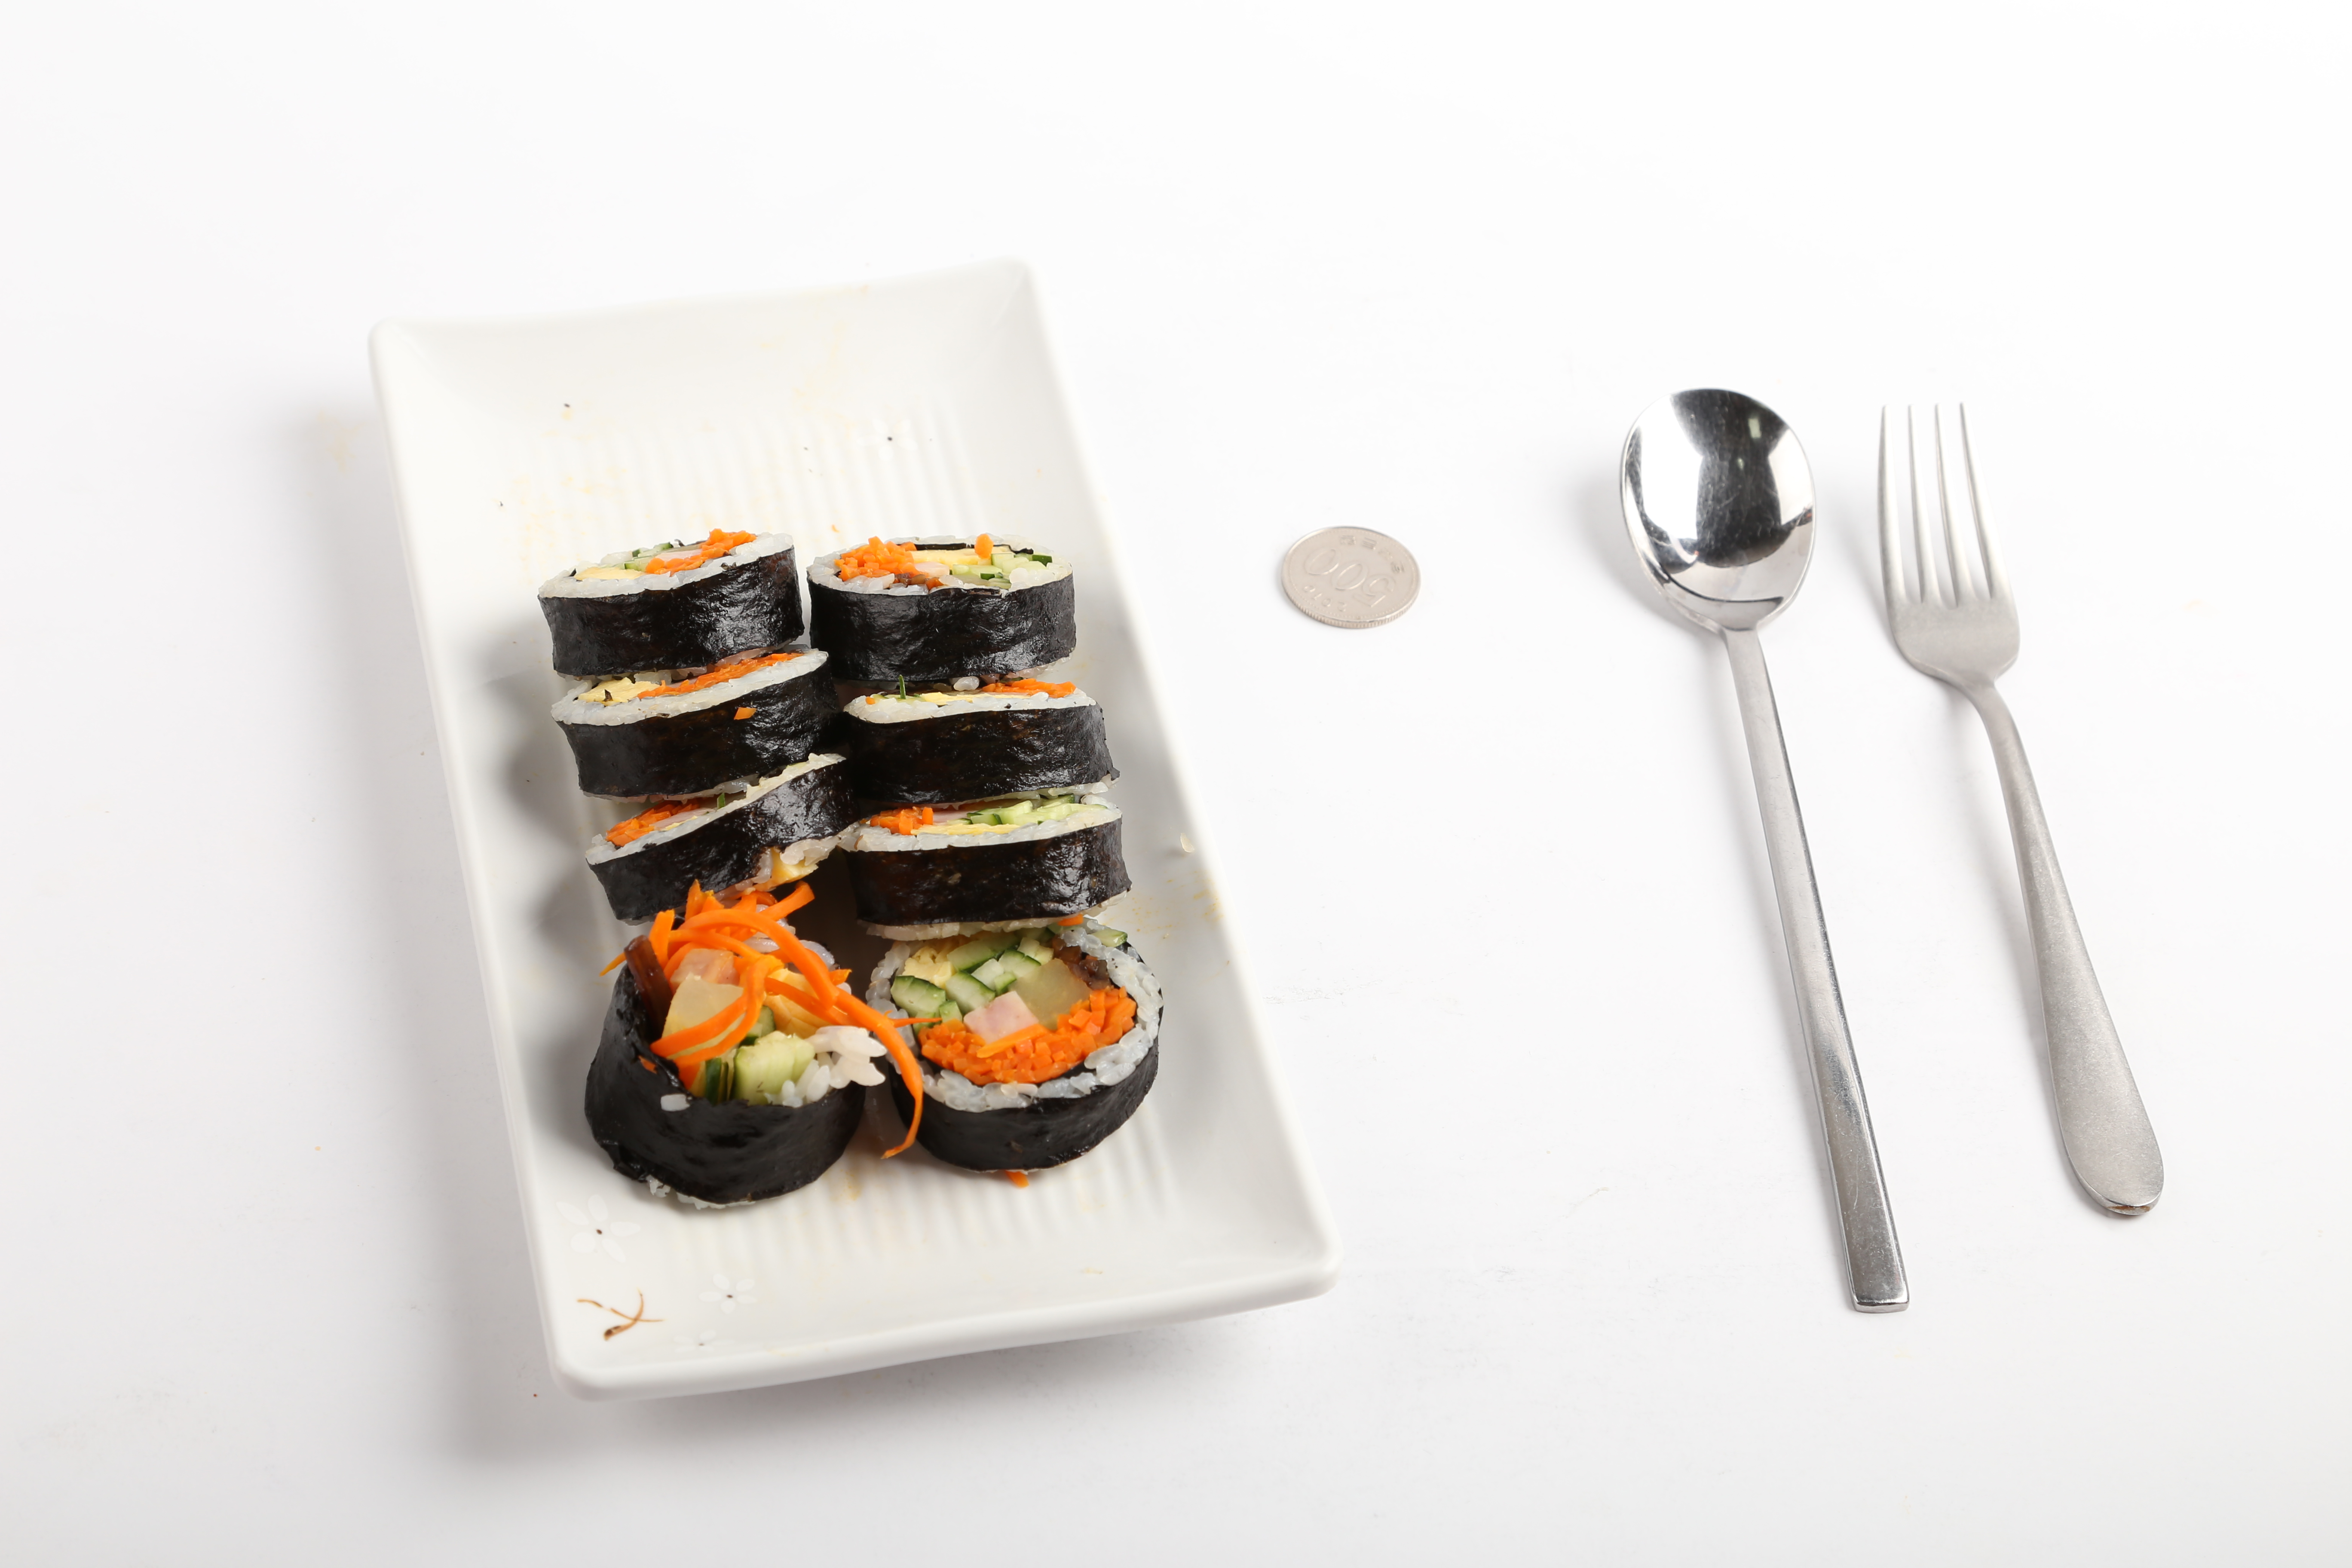dish: (364, 250, 1346, 1417)
ref_coin: (1265, 516, 1426, 635)
ref_fork: (1864, 394, 2025, 759)
ref_spoon: (1612, 383, 1820, 693)
김밥: (527, 521, 1171, 1214)
